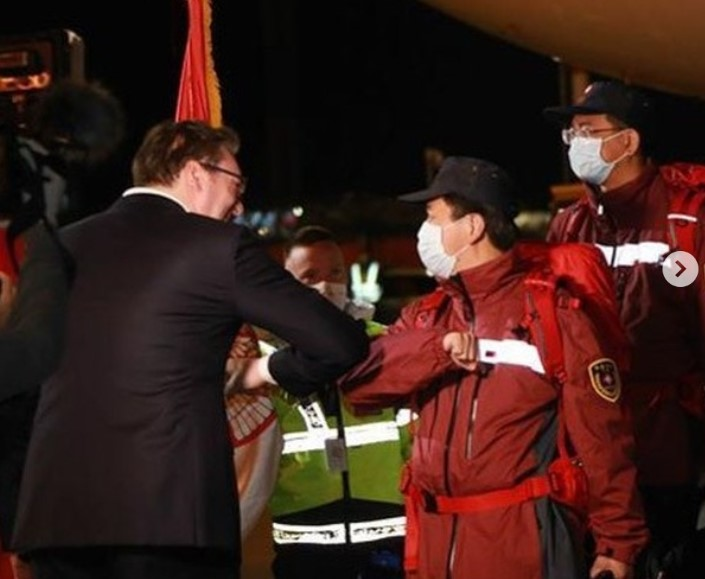face_no_mask: (133, 119, 251, 211)
face_with_mask: (400, 161, 517, 282), (561, 80, 651, 186), (284, 226, 349, 306)
